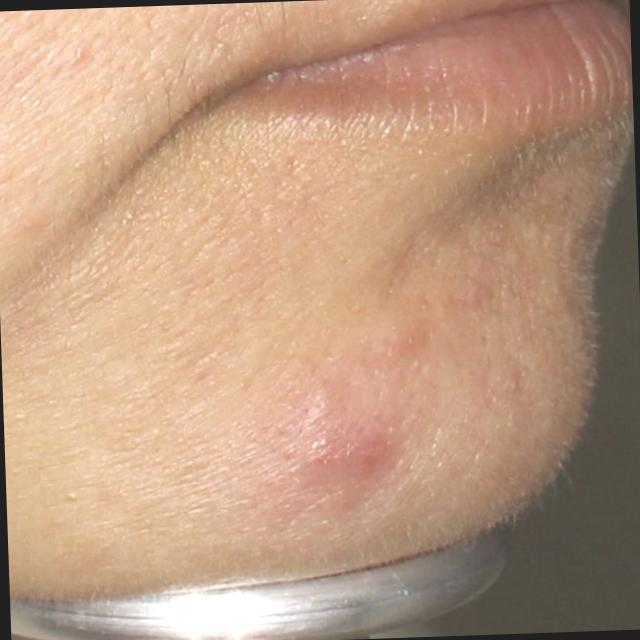nodule: (272, 405, 424, 513)
